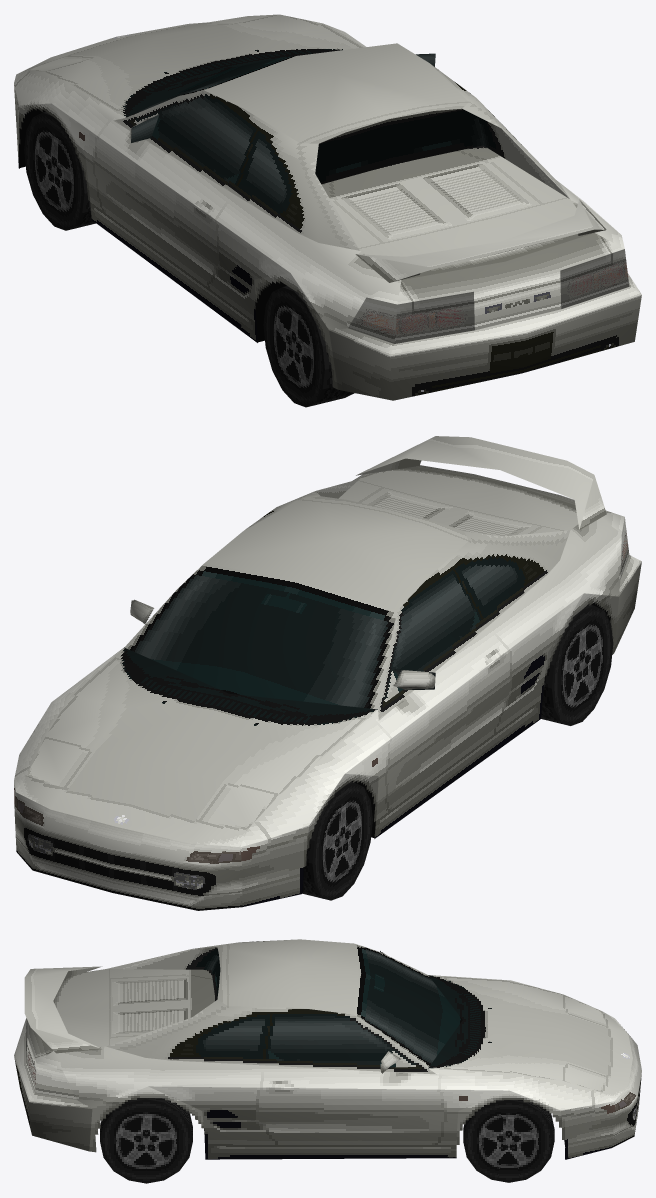
File: GT_SIMULATION__TMRLN.glb
3 renders of one model, top to bottom at view 1: azimuth 30°, elevation 25°; view 2: azimuth 150°, elevation 25°; view 3: azimuth 270°, elevation 25°, orthographic. The views are drawn at different scales.
Parts seen in each view (by area): view 1: Native body LOD0, Native wheel 2, Native wheel 0; view 2: Native body LOD0, Native wheel 2, Native wheel 0; view 3: Native body LOD0, Native wheel 3, Native wheel 1.
Boxes of the visible parts, bbox=[...] form: Native body LOD0: bbox=[14, 14, 641, 400]; Native wheel 2: bbox=[263, 286, 354, 407]; Native wheel 0: bbox=[24, 112, 95, 230]; Native body LOD0: bbox=[14, 436, 641, 910]; Native wheel 2: bbox=[541, 604, 613, 725]; Native wheel 0: bbox=[302, 781, 372, 900]; Native body LOD0: bbox=[14, 939, 641, 1159]; Native wheel 3: bbox=[100, 1098, 192, 1183]; Native wheel 1: bbox=[463, 1100, 554, 1182].
Size of the model in its own units: 1.76 by 1.22 by 4.17.
Materials: 13 (12 with a texture image).
